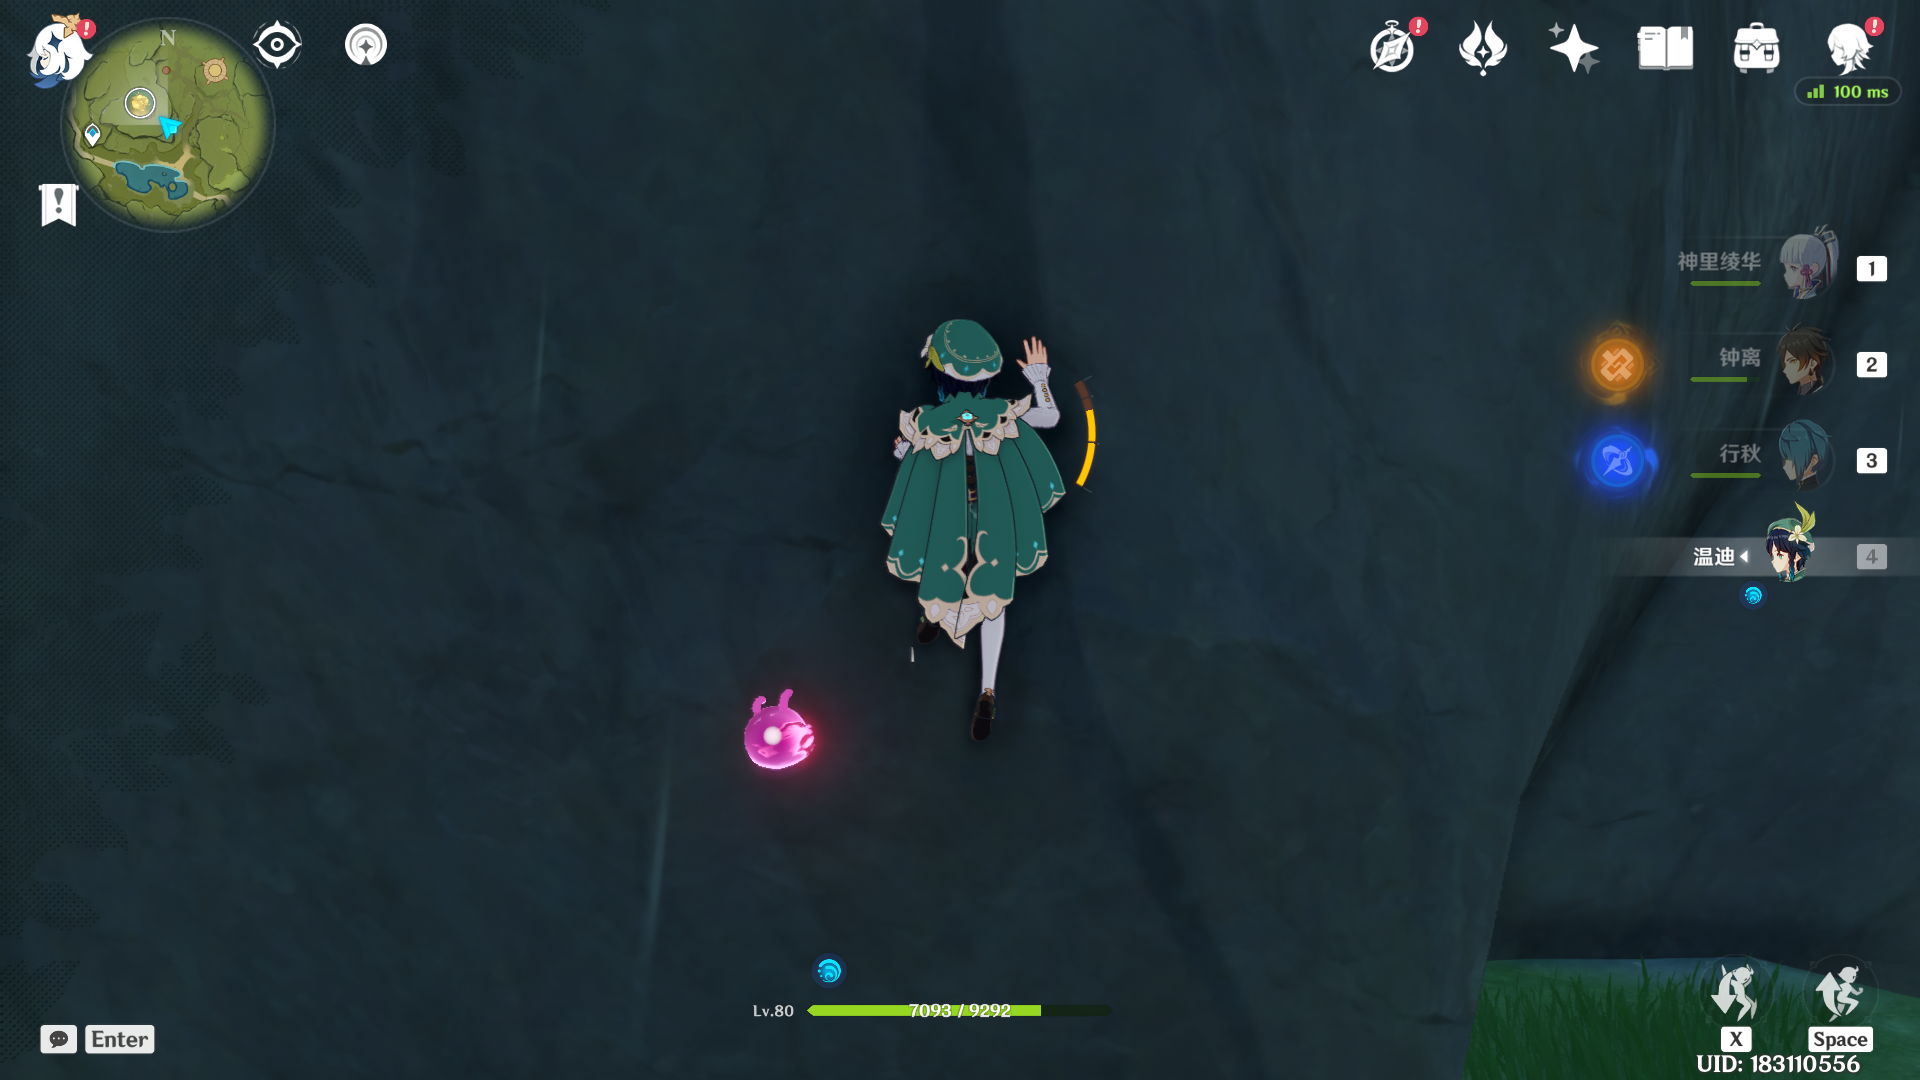character: (808, 295, 1116, 769)
